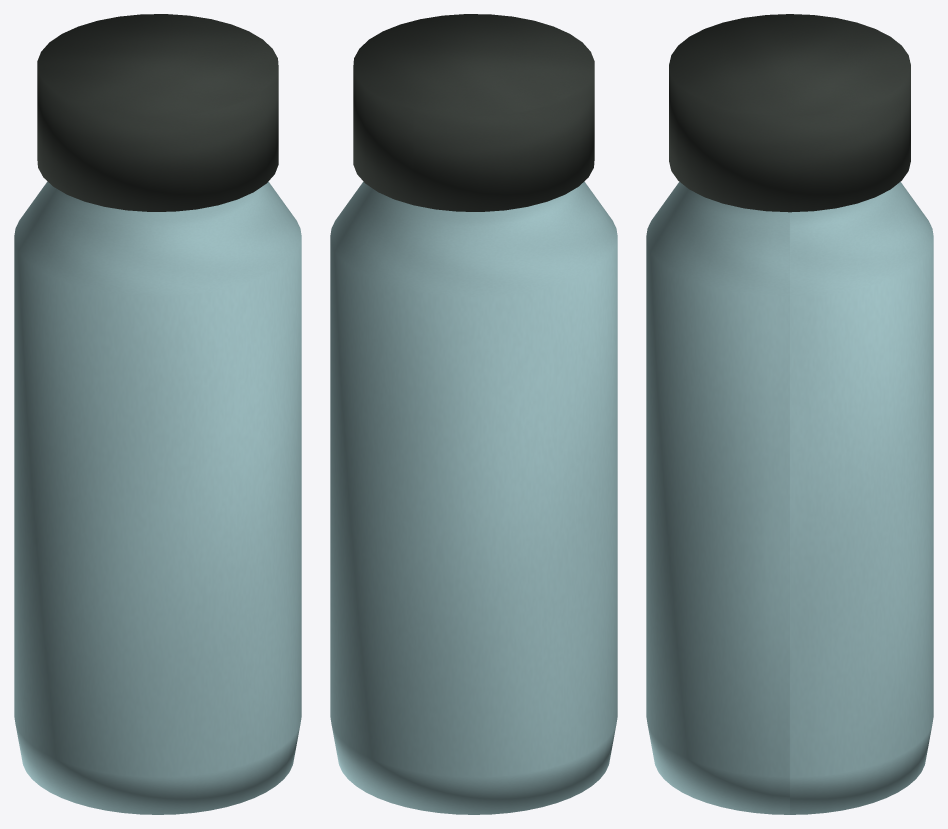
Rendered from vial.glb.
3 views of the same model, side by side, from view 1: azimuth 30°, elevation 25°; view 2: azimuth 150°, elevation 25°; view 3: azimuth 270°, elevation 25° (orthographic).
Parts seen in each view (by area): view 1: vial, cap; view 2: vial, cap; view 3: vial, cap.
Part boxes in pixels (x1=…): vial: x1=14, y1=181, x2=301, y2=814; cap: x1=37, y1=14, x2=278, y2=211; vial: x1=330, y1=181, x2=617, y2=814; cap: x1=353, y1=14, x2=594, y2=211; vial: x1=646, y1=182, x2=933, y2=814; cap: x1=669, y1=14, x2=910, y2=212.
Bounding box in the file's own units: 0.038 × 0.101 × 0.038.
Materials: 2 (2 with a texture image).
